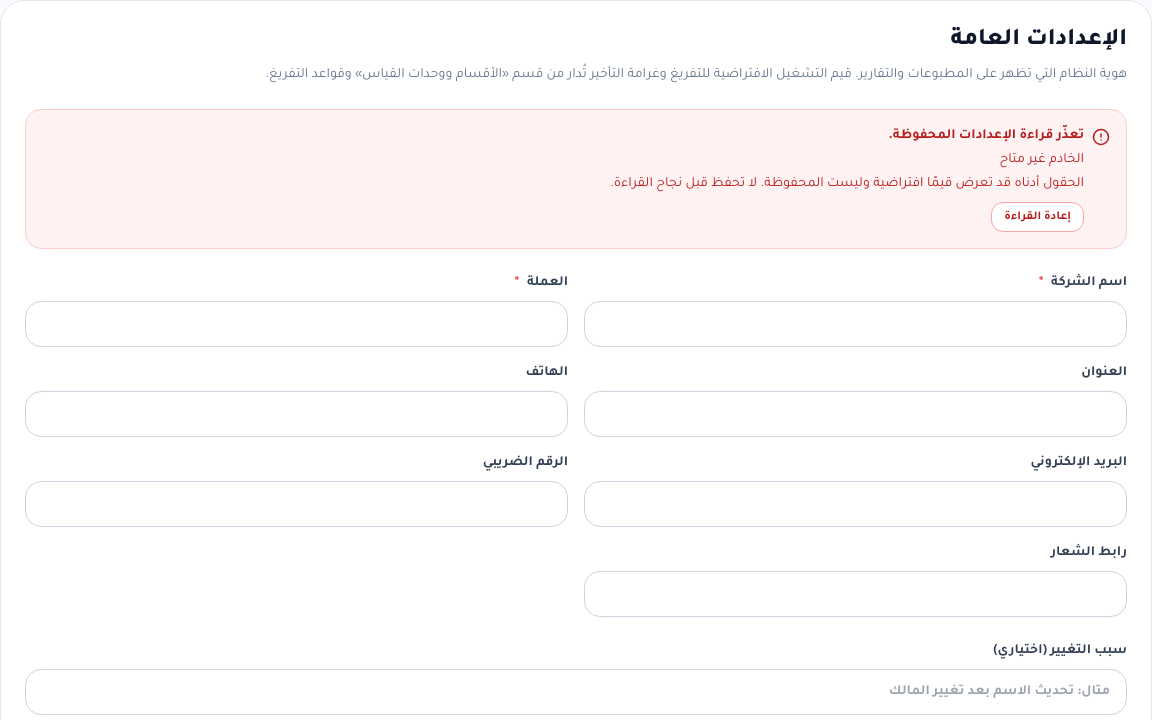
Scenario: GeneralSettings › offers a re-read after a failure
Expected: the text "تعذّر قراءة الإعدادات المحفوظة." is shown, [888,129,1084,143]
Click the button "إعادة القراءة" at (1038, 217), box [991,202,1084,232]
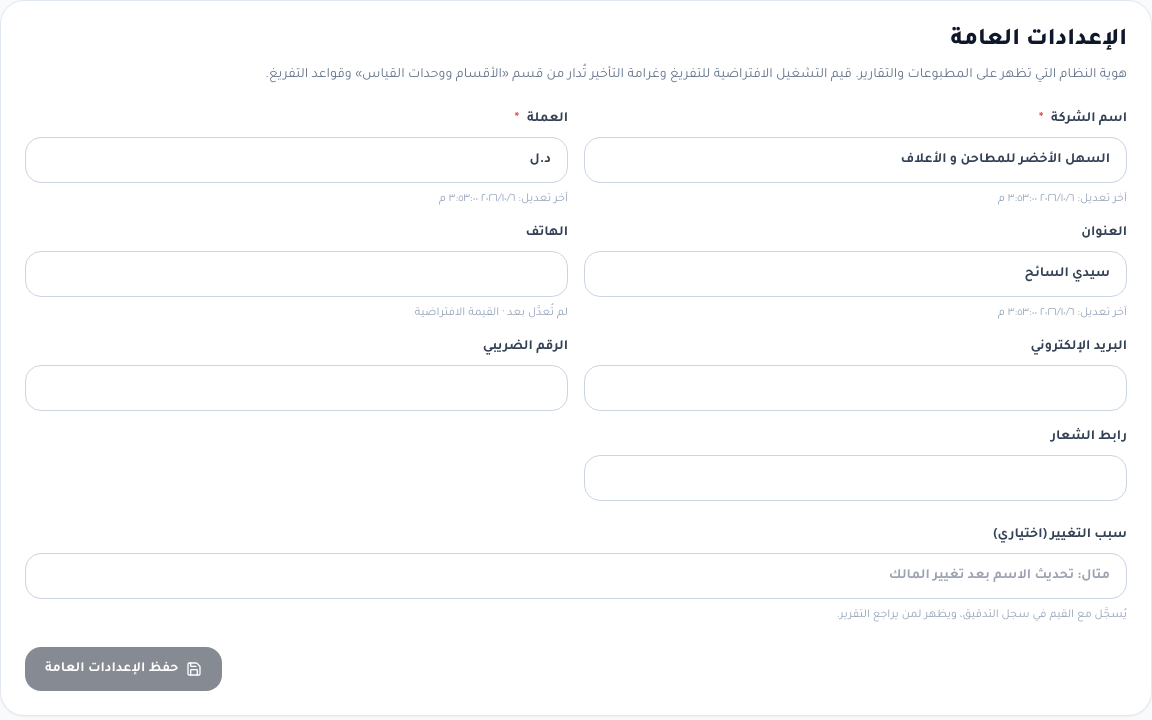
Expected: the field showing "السهل الأخضر للمطاحن و الأعلاف" is shown, [584,137,1127,183]
